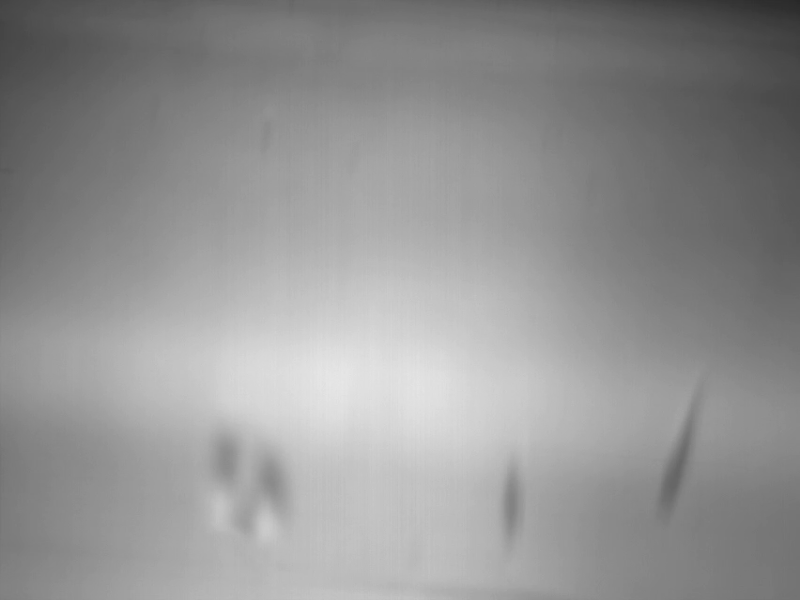bead: (206, 423, 293, 552)
fiber: (649, 368, 703, 528), (496, 434, 529, 564)
